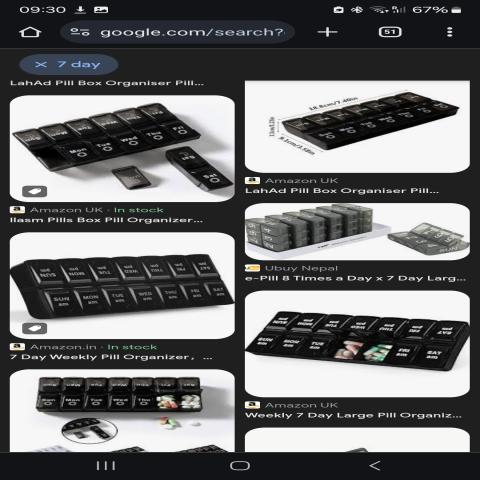PillBox: (9, 244, 240, 330), (264, 77, 463, 166), (254, 307, 458, 381), (9, 99, 205, 176), (22, 368, 224, 422)
